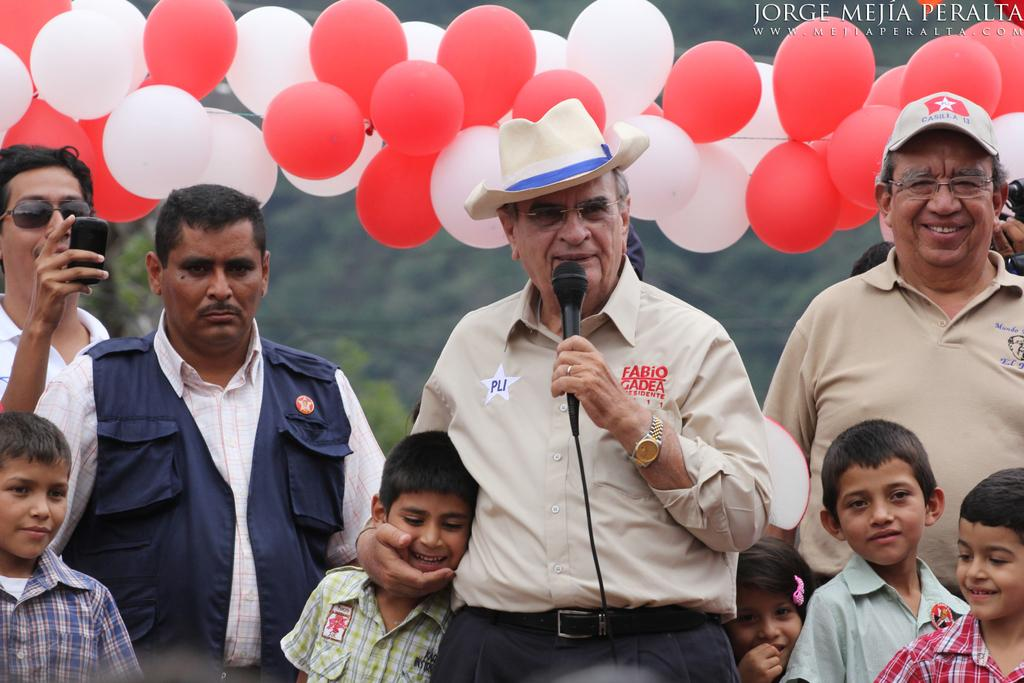Hat: (464, 98, 648, 220), (884, 90, 995, 156)
